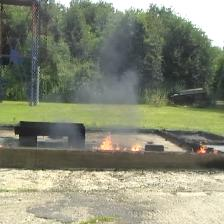fire: (94, 135, 114, 150), (132, 143, 141, 150)
